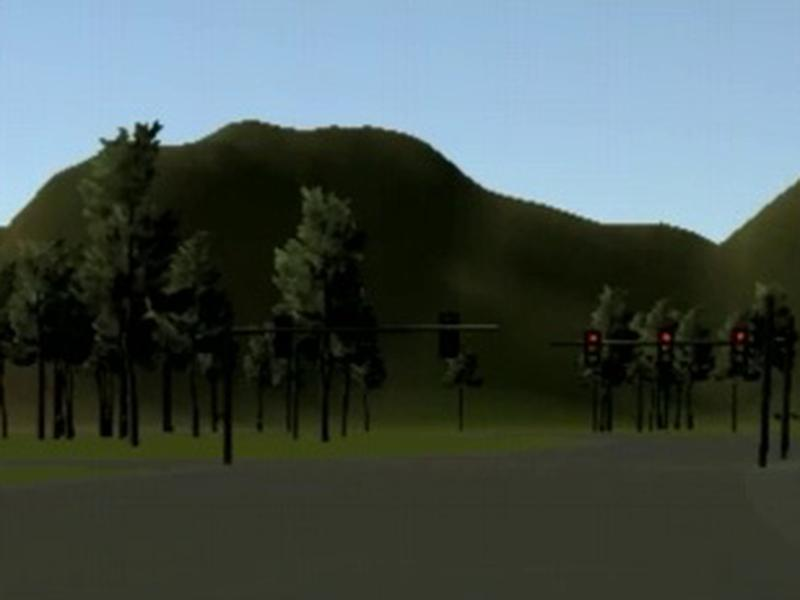Red: (731, 328, 750, 369), (657, 329, 676, 369), (583, 329, 602, 367)
